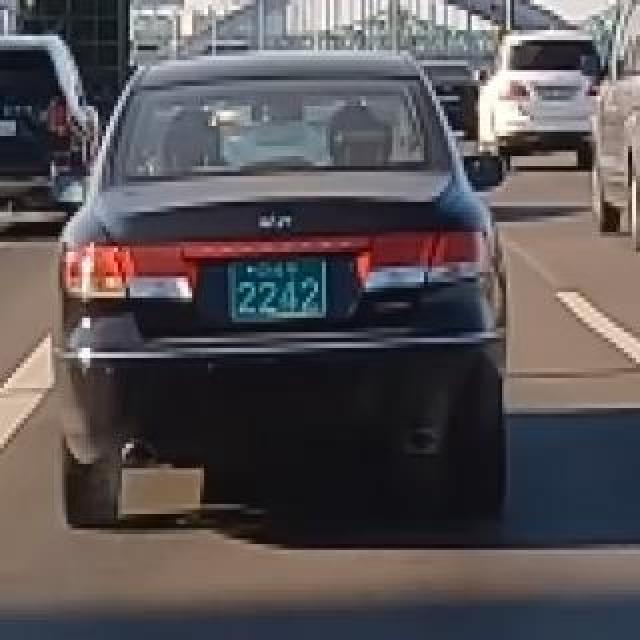car: (45, 44, 528, 541)
illegal_plate: (226, 255, 335, 333)
